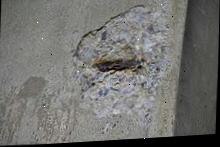exposed_rebar: (92, 56, 145, 70)
spalling: (74, 0, 171, 124)
